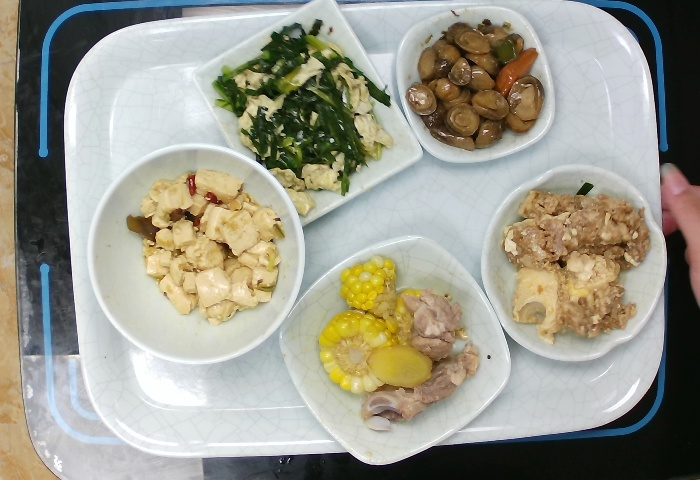JYsf-Ao_Yuan_Wan: (477, 162, 671, 363)
JYsf-Fan_Wan: (83, 139, 309, 366)
JYsf-Si_Fang_Die: (392, 2, 557, 164)
WCQzf-Da_Si_Fang_Die: (275, 233, 513, 468)
WCQzf-Ru_Ci_Si_Fang_Die: (189, 1, 425, 230)
